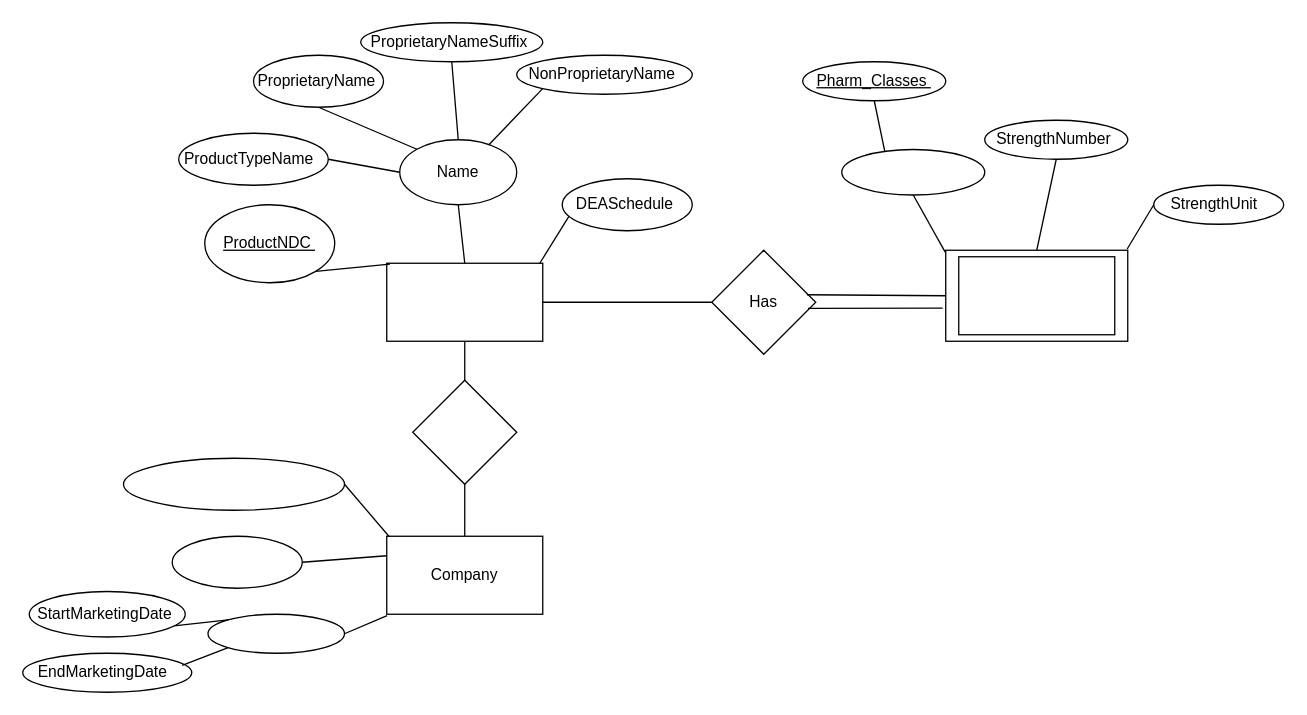
This 1307x715 diagram has some shape labels left out. Here are the shapes that lost their labels. From the top down, the centre of each, then its label:
pixel 912 171: SubstanceName
pixel 464 301: Product
pixel 1036 295: Ingredients
pixel 464 431: Markets
pixel 233 483: MarketingCategoryName
pixel 236 561: LabelerName
pixel 275 633: Marketing
